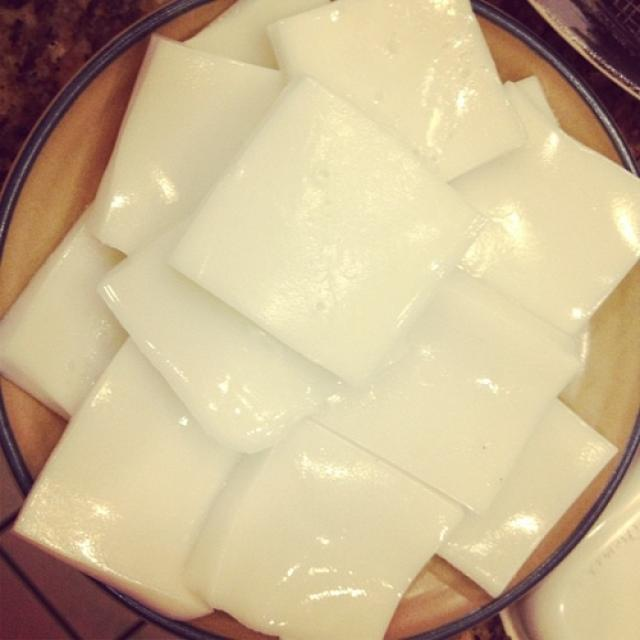蛋糕甜品: (26, 15, 626, 608)
